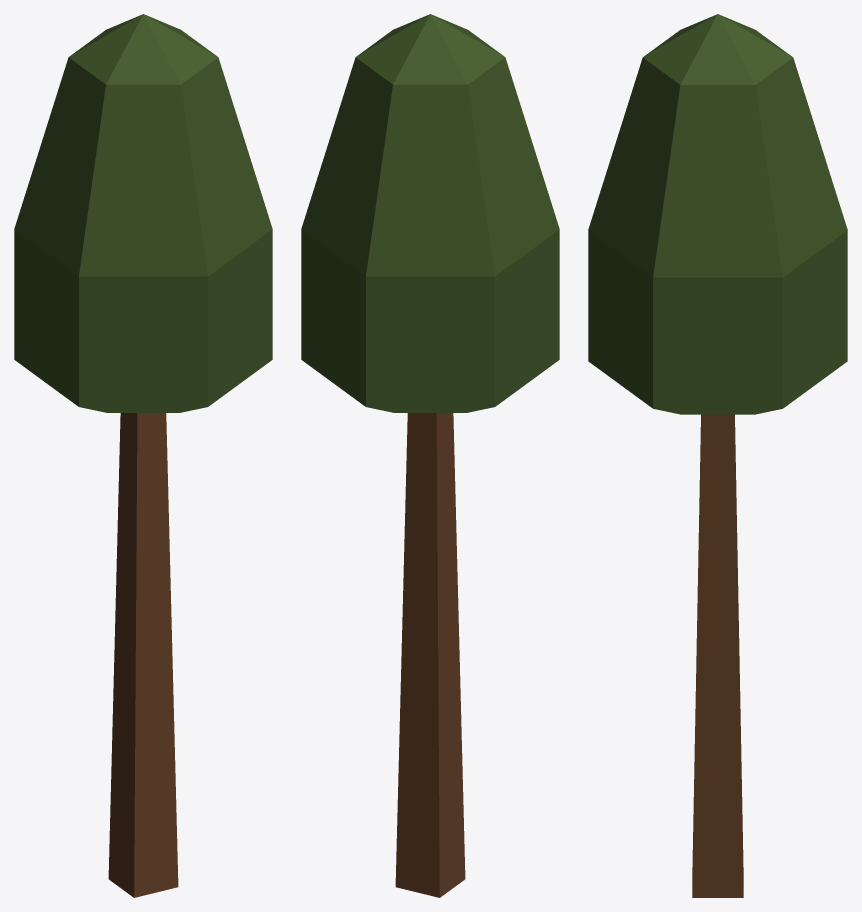
The model's file is tree_simple.glb.
3 views of the same model, side by side, from view 1: azimuth 30°, elevation 25°; view 2: azimuth 150°, elevation 25°; view 3: azimuth 270°, elevation 25° (orthographic).
Visible parts, largest first — view 1: tree_simple; view 2: tree_simple; view 3: tree_simple.
Boxes of the visible parts, left/top/right/bottom form: tree_simple: left=14, top=14, right=272, bottom=897; tree_simple: left=301, top=14, right=559, bottom=897; tree_simple: left=588, top=14, right=847, bottom=897.
Size of the model in its own units: 0.3546 by 1.52 by 0.4095.
